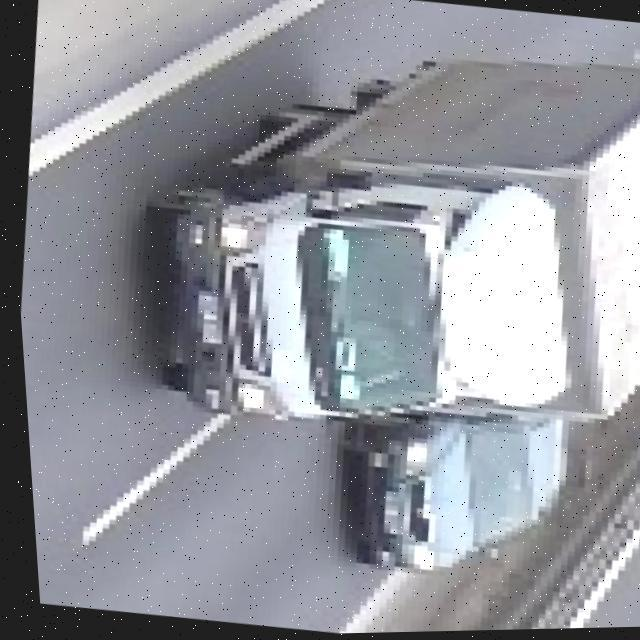truck: (138, 15, 640, 482)
